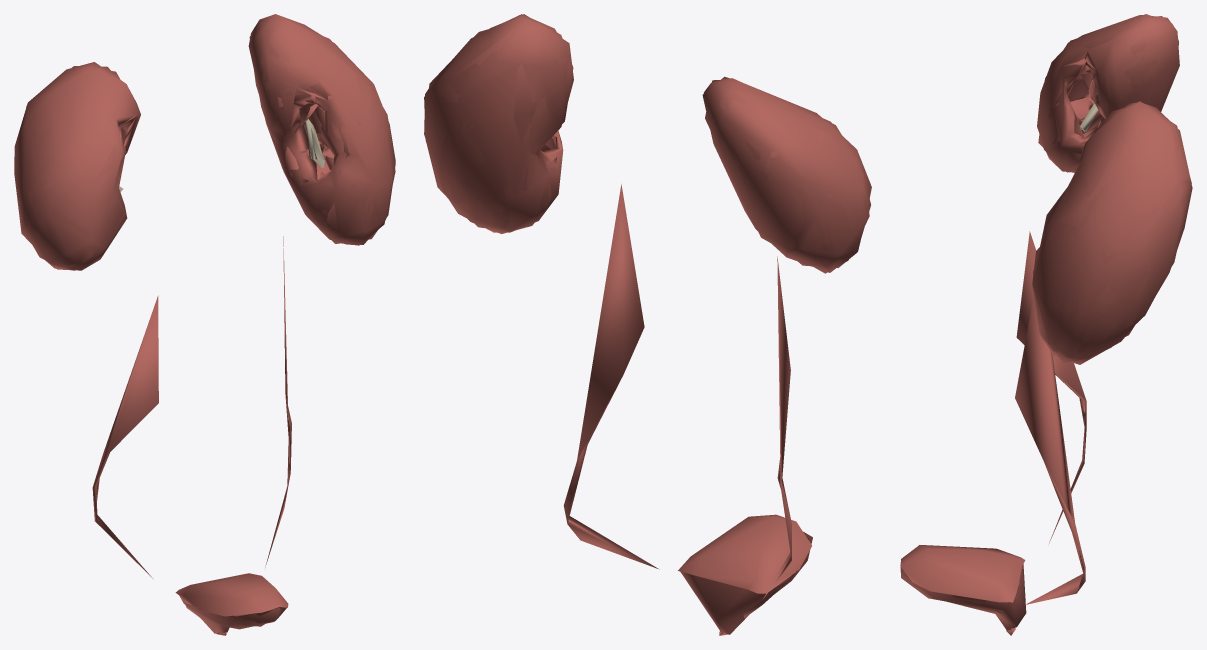
File: adult_female.urinary.LOD4.glb
The picture shows the model from 3 angles, left to right: view 1: azimuth 30°, elevation 25°; view 2: azimuth 150°, elevation 25°; view 3: azimuth 270°, elevation 25°; orthographic projection. The views are drawn at different scales.
Parts seen in each view (by area): view 1: ADULT.FEMALE.URINARY.KIDNEY_CAPSULE.R, ADULT.FEMALE.URINARY.KIDNEY_CAPSULE.L, ADULT.FEMALE.URINARY.URETER.R, ADULT.FEMALE.URINARY.OUTER_CORTEX_OF_KIDNEY.L, ADULT.FEMALE.URINARY.FUNDUS_OF_URINARY_BLADDER_DOME, ADULT.FEMALE.URINARY.OUTER_CORTEX_OF_KIDNEY.R, ADULT.FEMALE.URINARY.FUNDUS_OF_URINARY_BLADDER_BASE, ADULT.FEMALE.URINARY.HILUM_OF_KIDNEY.L, ADULT.FEMALE.URINARY.URETER.L; view 2: ADULT.FEMALE.URINARY.KIDNEY_CAPSULE.L, ADULT.FEMALE.URINARY.KIDNEY_CAPSULE.R, ADULT.FEMALE.URINARY.URETER.L, ADULT.FEMALE.URINARY.FUNDUS_OF_URINARY_BLADDER_DOME, ADULT.FEMALE.URINARY.OUTER_CORTEX_OF_KIDNEY.L, ADULT.FEMALE.URINARY.FUNDUS_OF_URINARY_BLADDER_BASE, ADULT.FEMALE.URINARY.URETER.R, ADULT.FEMALE.URINARY.OUTER_CORTEX_OF_KIDNEY.R; view 3: ADULT.FEMALE.URINARY.KIDNEY_CAPSULE.L, ADULT.FEMALE.URINARY.KIDNEY_CAPSULE.R, ADULT.FEMALE.URINARY.OUTER_CORTEX_OF_KIDNEY.L, ADULT.FEMALE.URINARY.URETER.L, ADULT.FEMALE.URINARY.FUNDUS_OF_URINARY_BLADDER_DOME, ADULT.FEMALE.URINARY.URETER.R, ADULT.FEMALE.URINARY.FUNDUS_OF_URINARY_BLADDER_BASE, ADULT.FEMALE.URINARY.OUTER_CORTEX_OF_KIDNEY.R, ADULT.FEMALE.URINARY.HILUM_OF_KIDNEY.R.
Part boxes in pixels (x1,y1,x2,y2): ADULT.FEMALE.URINARY.KIDNEY_CAPSULE.R: (14, 62, 140, 270); ADULT.FEMALE.URINARY.KIDNEY_CAPSULE.L: (248, 14, 395, 245); ADULT.FEMALE.URINARY.URETER.R: (92, 295, 158, 578); ADULT.FEMALE.URINARY.OUTER_CORTEX_OF_KIDNEY.L: (249, 15, 395, 243); ADULT.FEMALE.URINARY.FUNDUS_OF_URINARY_BLADDER_DOME: (175, 573, 288, 616); ADULT.FEMALE.URINARY.OUTER_CORTEX_OF_KIDNEY.R: (14, 67, 130, 270); ADULT.FEMALE.URINARY.FUNDUS_OF_URINARY_BLADDER_BASE: (179, 595, 286, 633); ADULT.FEMALE.URINARY.HILUM_OF_KIDNEY.L: (281, 81, 333, 180); ADULT.FEMALE.URINARY.URETER.L: (265, 236, 291, 567); ADULT.FEMALE.URINARY.KIDNEY_CAPSULE.L: (424, 14, 573, 232); ADULT.FEMALE.URINARY.KIDNEY_CAPSULE.R: (702, 76, 871, 272); ADULT.FEMALE.URINARY.URETER.L: (563, 184, 659, 569); ADULT.FEMALE.URINARY.FUNDUS_OF_URINARY_BLADDER_DOME: (678, 514, 812, 593); ADULT.FEMALE.URINARY.OUTER_CORTEX_OF_KIDNEY.L: (424, 19, 573, 233); ADULT.FEMALE.URINARY.FUNDUS_OF_URINARY_BLADDER_BASE: (680, 531, 812, 634); ADULT.FEMALE.URINARY.URETER.R: (763, 256, 791, 598); ADULT.FEMALE.URINARY.OUTER_CORTEX_OF_KIDNEY.R: (705, 80, 869, 273); ADULT.FEMALE.URINARY.KIDNEY_CAPSULE.L: (1032, 102, 1192, 364); ADULT.FEMALE.URINARY.KIDNEY_CAPSULE.R: (1037, 15, 1179, 172); ADULT.FEMALE.URINARY.OUTER_CORTEX_OF_KIDNEY.L: (1033, 101, 1191, 362); ADULT.FEMALE.URINARY.URETER.L: (1015, 296, 1085, 604); ADULT.FEMALE.URINARY.FUNDUS_OF_URINARY_BLADDER_DOME: (900, 545, 1025, 602); ADULT.FEMALE.URINARY.URETER.R: (1016, 231, 1086, 543); ADULT.FEMALE.URINARY.FUNDUS_OF_URINARY_BLADDER_BASE: (900, 564, 1026, 629); ADULT.FEMALE.URINARY.OUTER_CORTEX_OF_KIDNEY.R: (1038, 14, 1177, 172); ADULT.FEMALE.URINARY.HILUM_OF_KIDNEY.R: (1068, 70, 1101, 134).
Size of the model in its own units: 0.2233 by 0.3192 by 0.143.
